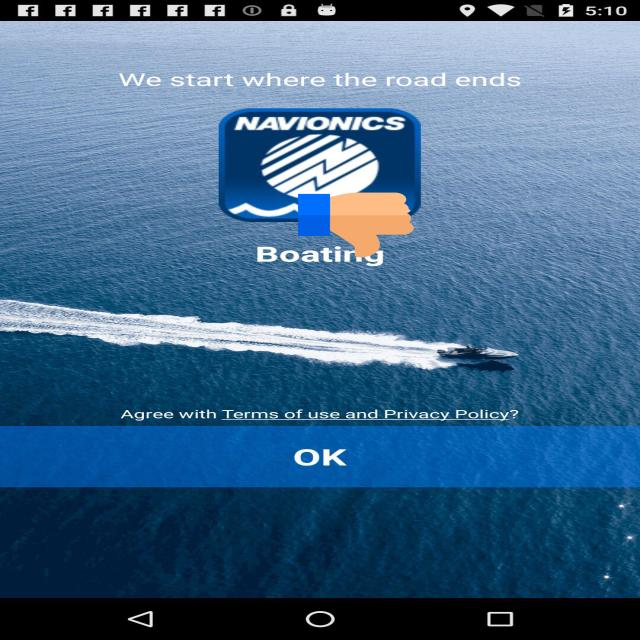obstruction: (298, 191, 414, 259)
